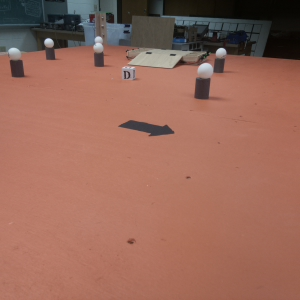blockD: (122, 66, 135, 81)
corner: (94, 13, 107, 39)
obstacle: (6, 48, 26, 77), (196, 64, 211, 100), (214, 49, 225, 75), (43, 38, 56, 59), (92, 44, 104, 64)
side: (186, 53, 210, 63)
slope: (129, 52, 179, 69)
start: (118, 117, 176, 138)
